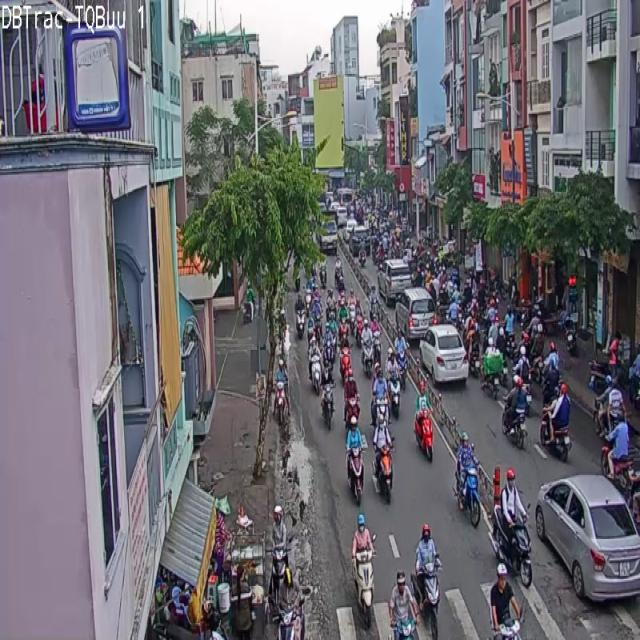car: (492, 471, 530, 585), (415, 525, 441, 639), (352, 513, 375, 626), (346, 415, 364, 503), (374, 420, 393, 501), (416, 408, 433, 461)
traffic-light: (534, 474, 639, 600), (420, 324, 468, 383), (396, 287, 435, 340)
